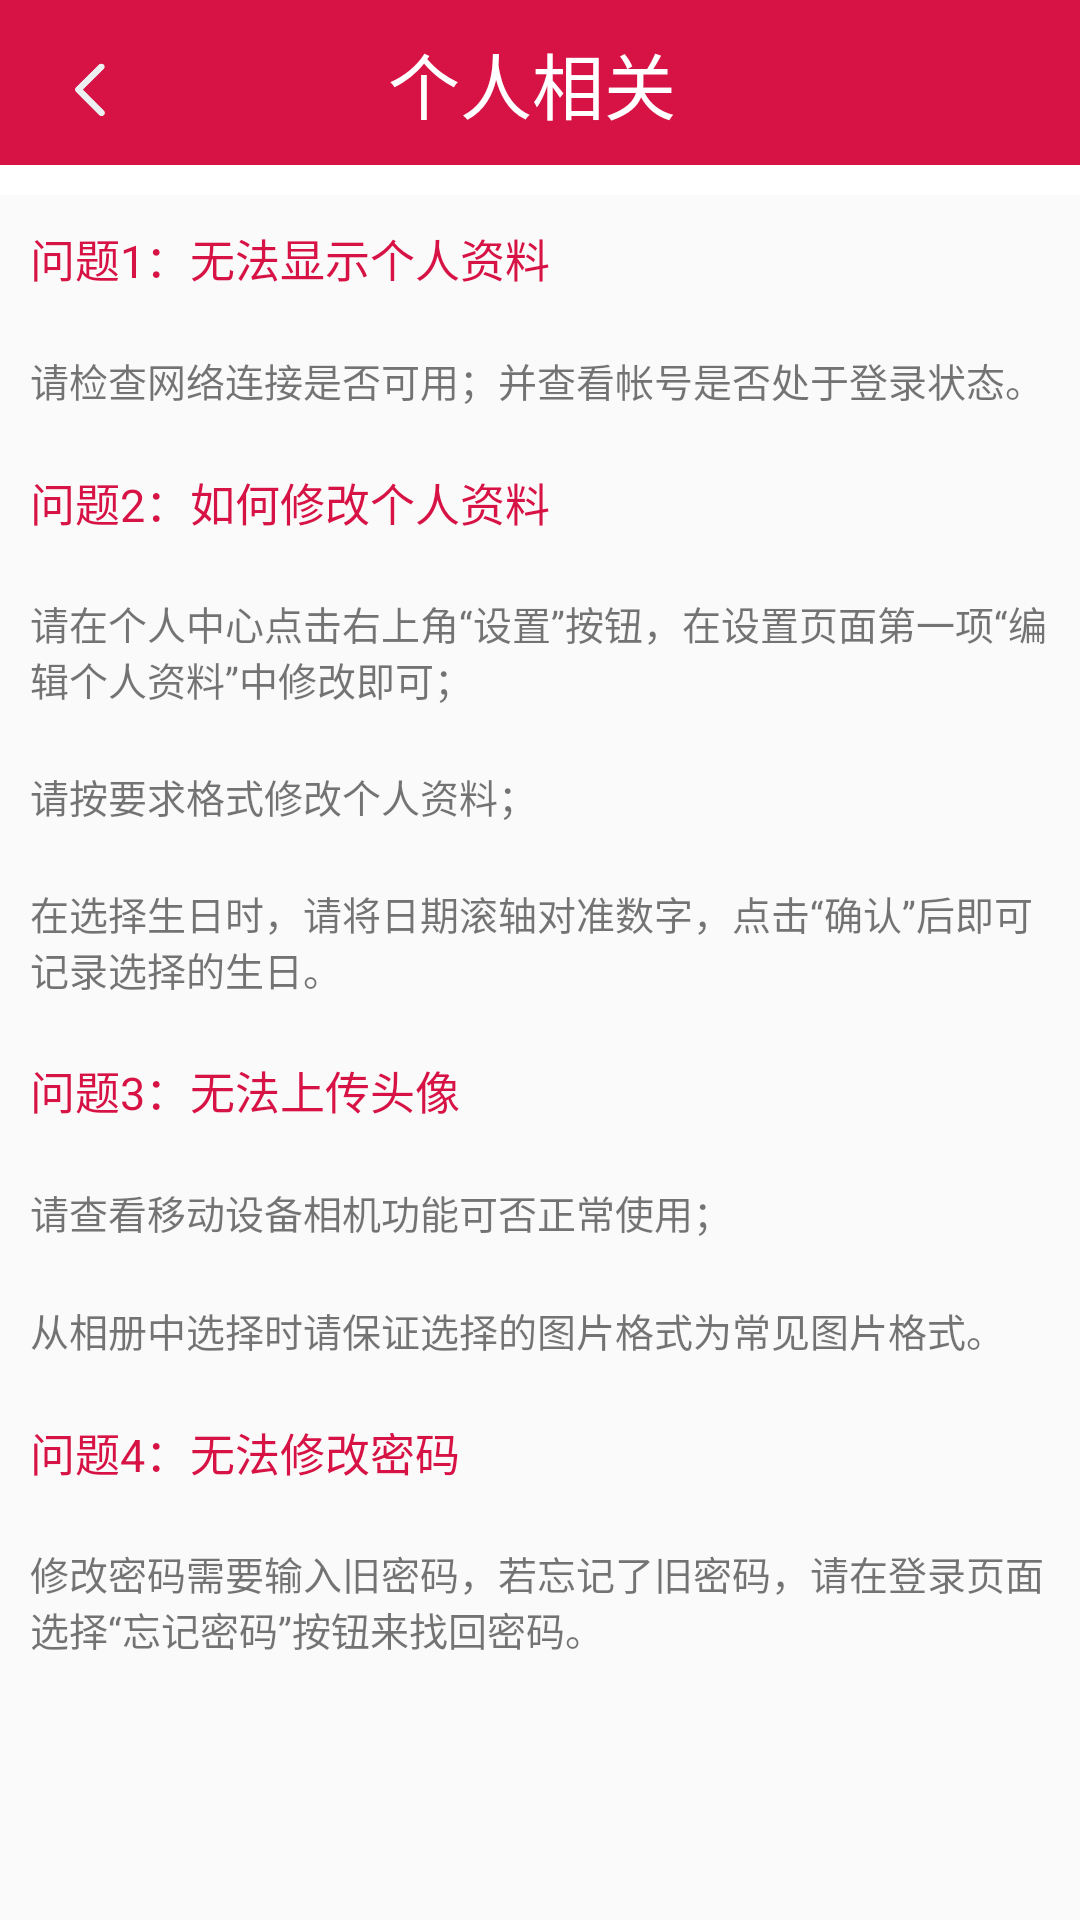

Named icons in this screenshot (1080*1920) and their bounding boxes, (x1, y1, x2, y2):
back: (75, 63, 105, 116)
